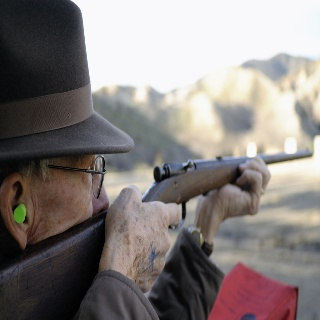rifle: (2, 150, 312, 320)
